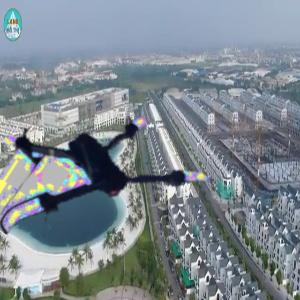drone: (1, 74, 206, 279)
